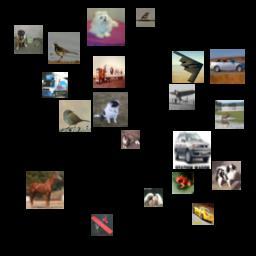airplane: (172, 51, 204, 83), (169, 84, 195, 110), (91, 214, 113, 236)
automobile: (173, 131, 211, 169), (210, 49, 245, 84), (192, 203, 214, 225)
bird: (59, 100, 91, 132), (48, 32, 80, 64), (136, 8, 155, 27)
cat: (121, 130, 140, 149)
deer: (215, 100, 244, 129)
dog: (87, 8, 125, 46), (93, 92, 128, 127), (14, 25, 43, 54), (212, 161, 241, 190), (144, 188, 163, 207)
frog: (172, 172, 194, 194)
truck: (93, 56, 125, 88), (42, 72, 68, 98)
